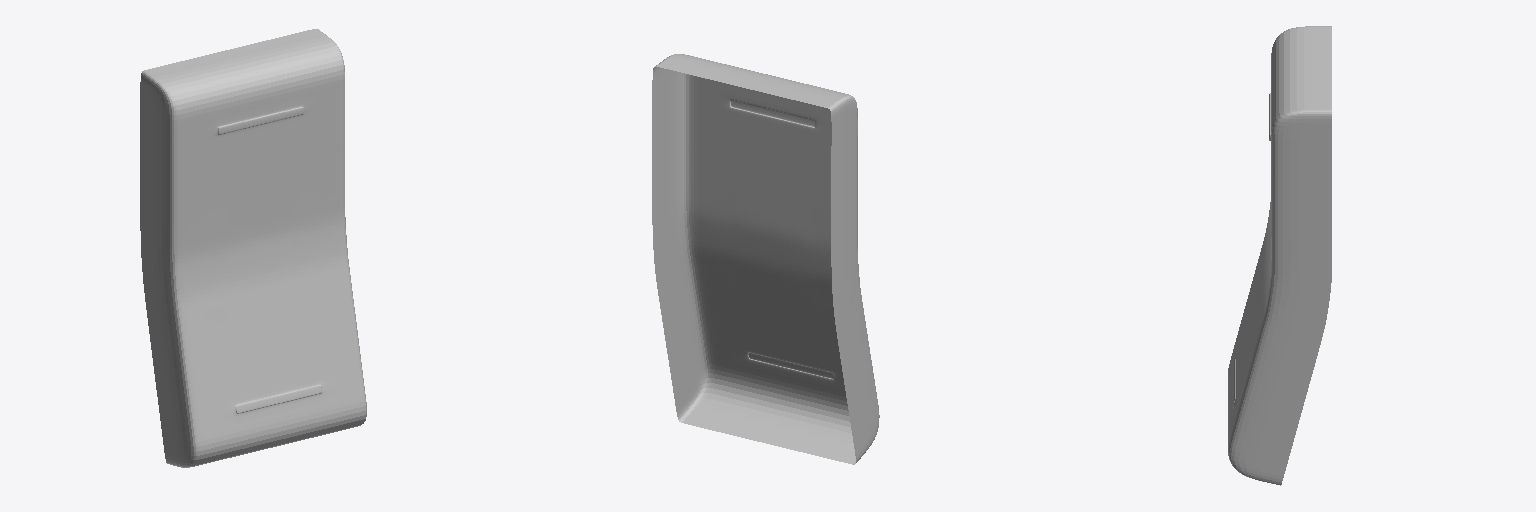
File: light-switch.obj
3 views of the same model, side by side, from view 1: azimuth 30°, elevation 25°; view 2: azimuth 150°, elevation 25°; view 3: azimuth 270°, elevation 25° (orthographic).
Visible parts, largest first — view 1: switch_socket1; view 2: switch_socket1; view 3: switch_socket1.
Boxes of the visible parts, x1=… form: switch_socket1: x1=140, y1=29, x2=366, y2=467; switch_socket1: x1=652, y1=54, x2=879, y2=464; switch_socket1: x1=1228, y1=26, x2=1331, y2=485.
Bounding box in the file's own units: 0.0476 × 0.0954 × 0.024.